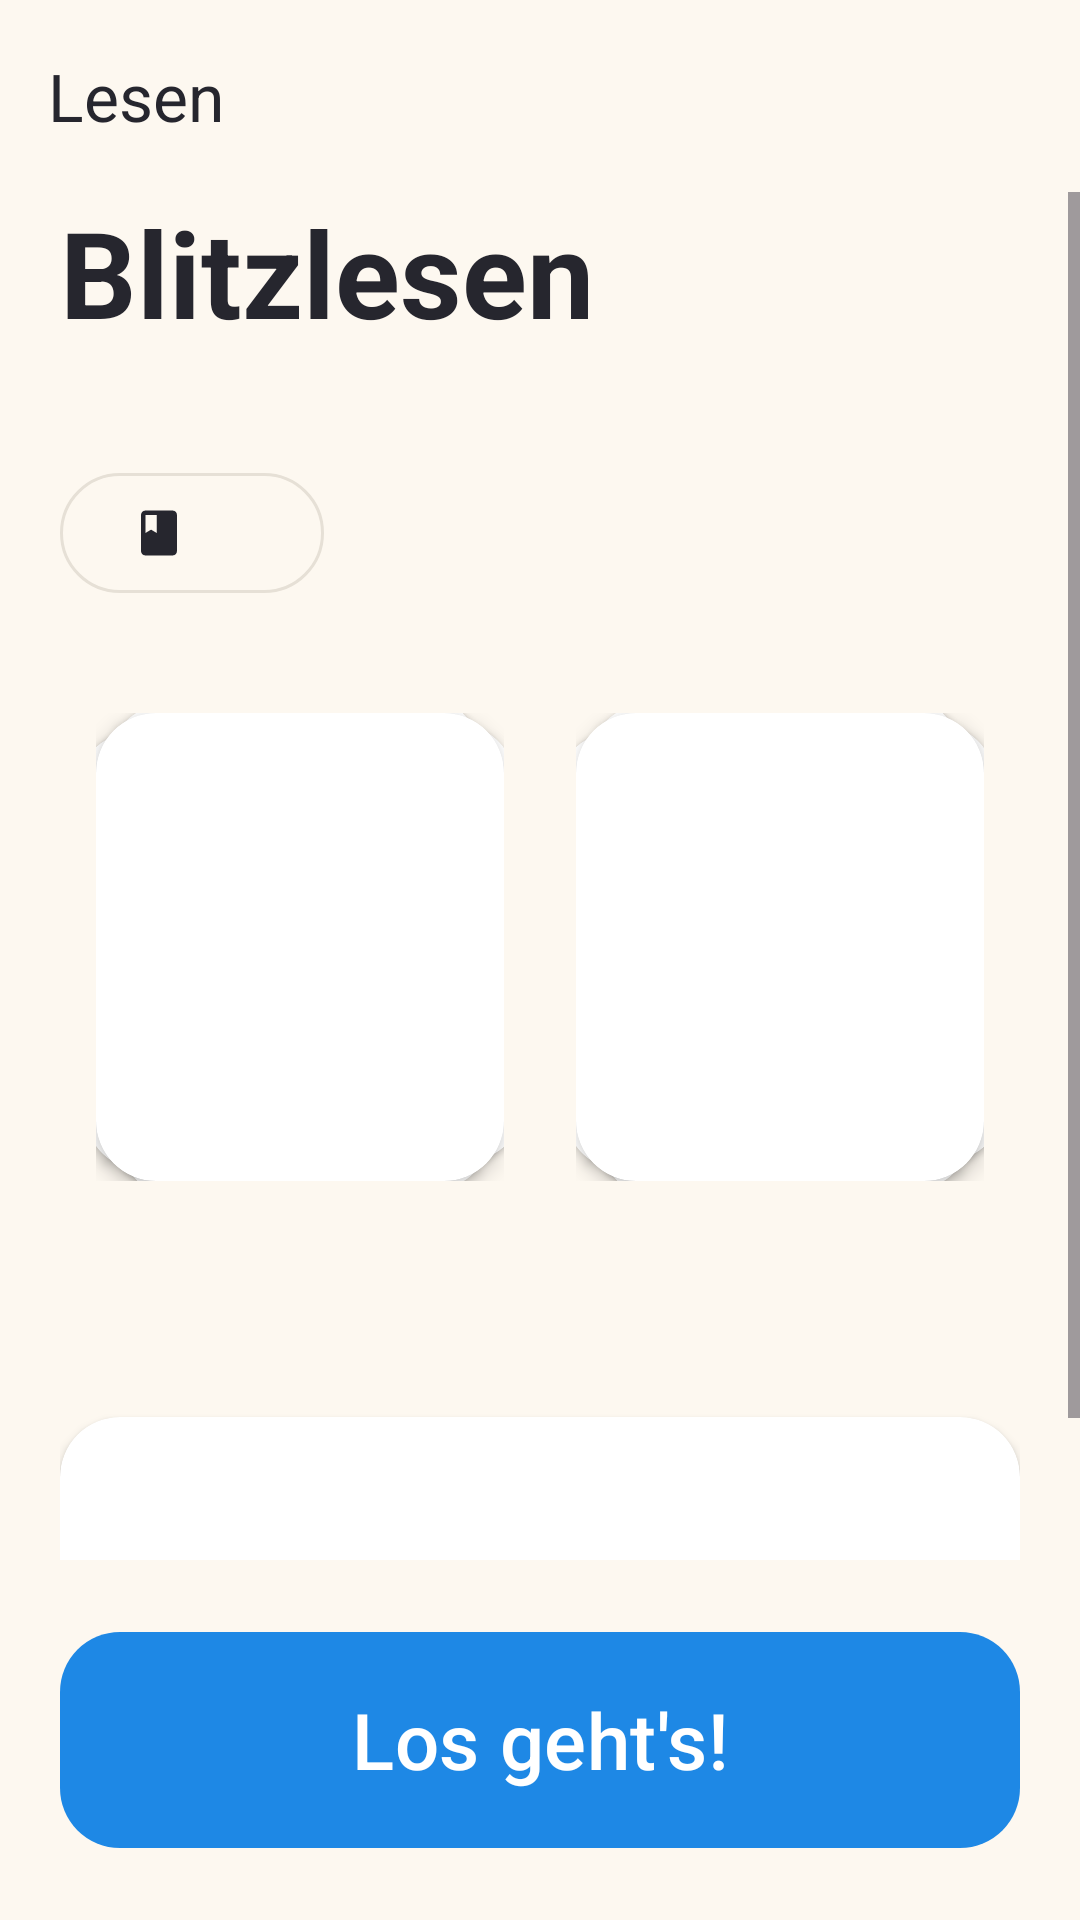

Named icons in this screenshot (1080×1920) and their centers, (x,y):
book: (192,533)
